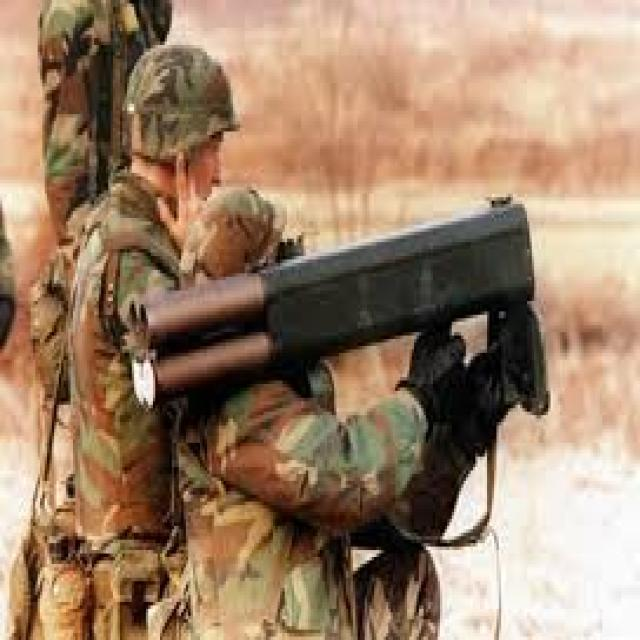bazooka: (99, 149, 589, 536)
